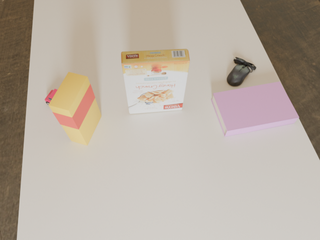book: (211, 82, 299, 136)
box: (121, 49, 190, 114), (49, 72, 101, 145)
mouse: (227, 57, 256, 86)
